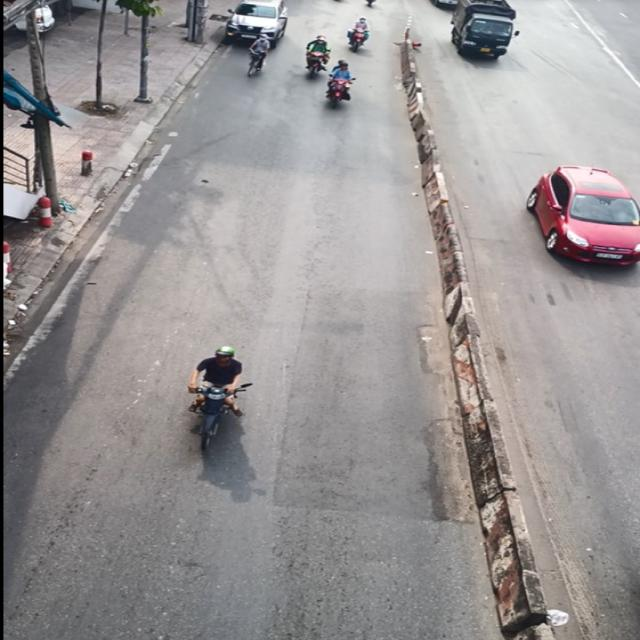car: (518, 168, 640, 292)
motor: (187, 328, 257, 440)
